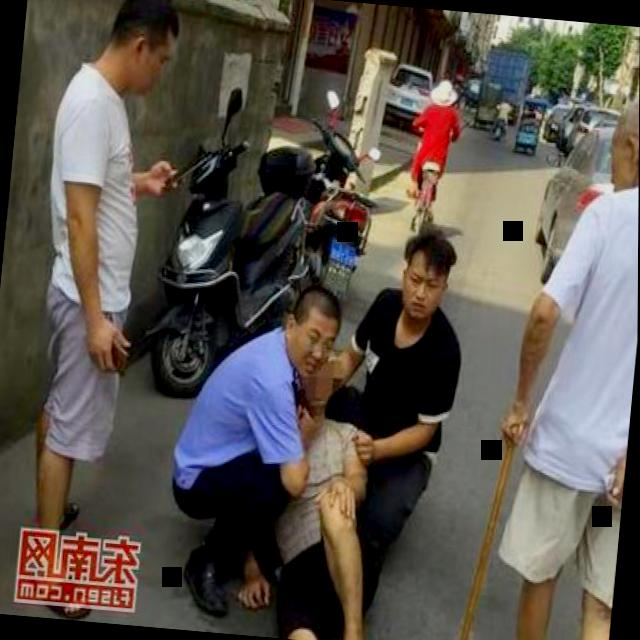Fall-Detected: (246, 327, 416, 640)
